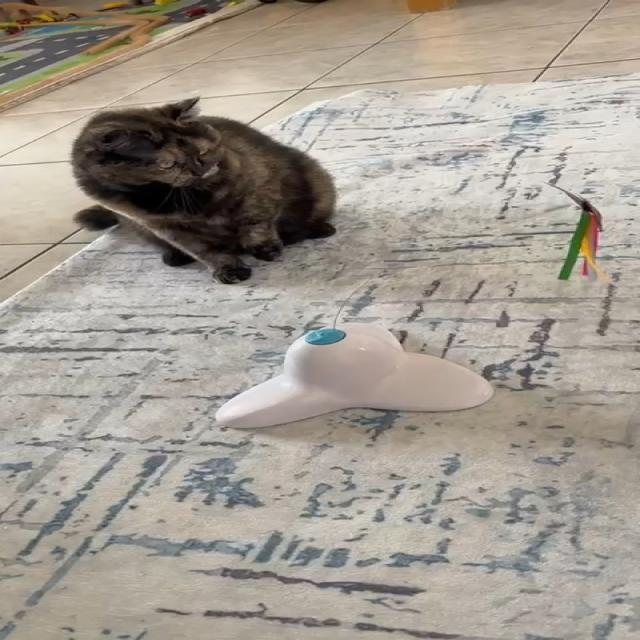authorized: (68, 95, 337, 284)
